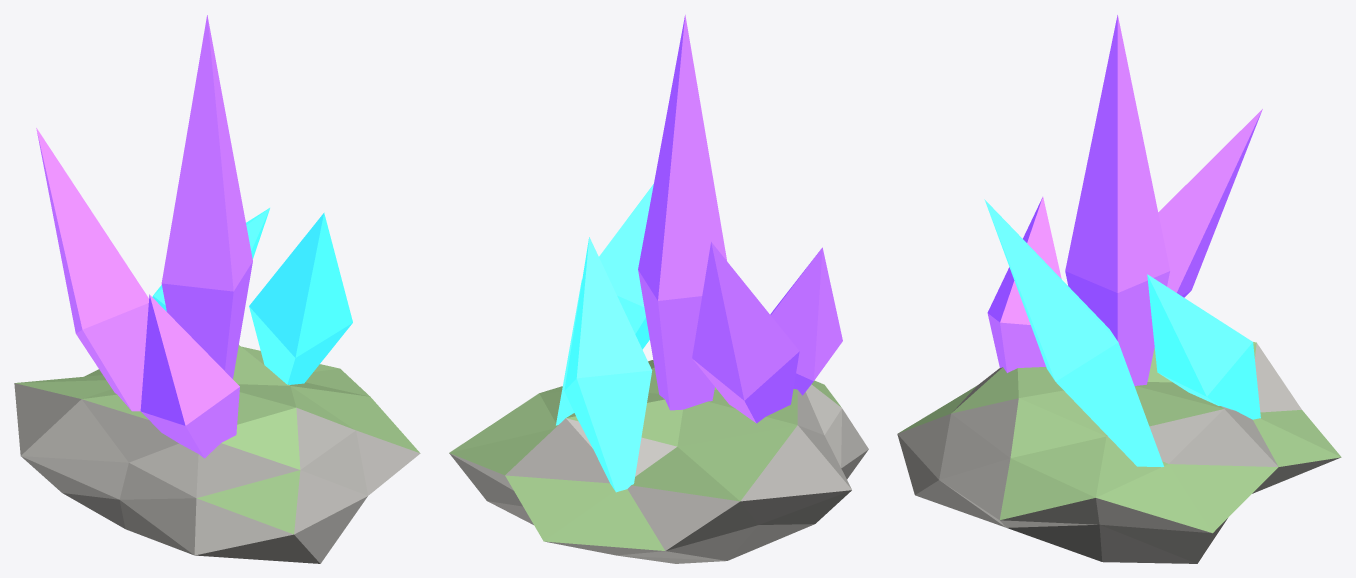
The model's file is crystals.glb.
3 renders of one model, left to right at view 1: azimuth 30°, elevation 25°; view 2: azimuth 150°, elevation 25°; view 3: azimuth 270°, elevation 25°, orthographic. The views are drawn at different scales.
Parts seen in each view (by area): view 1: crystals; view 2: crystals; view 3: crystals.
Part boxes in pixels (x1,y1,x2,y2): crystals: (14, 15, 420, 563); crystals: (449, 15, 868, 563); crystals: (897, 15, 1341, 563).
Size of the model in its own units: 2.33 by 3.24 by 2.54.
